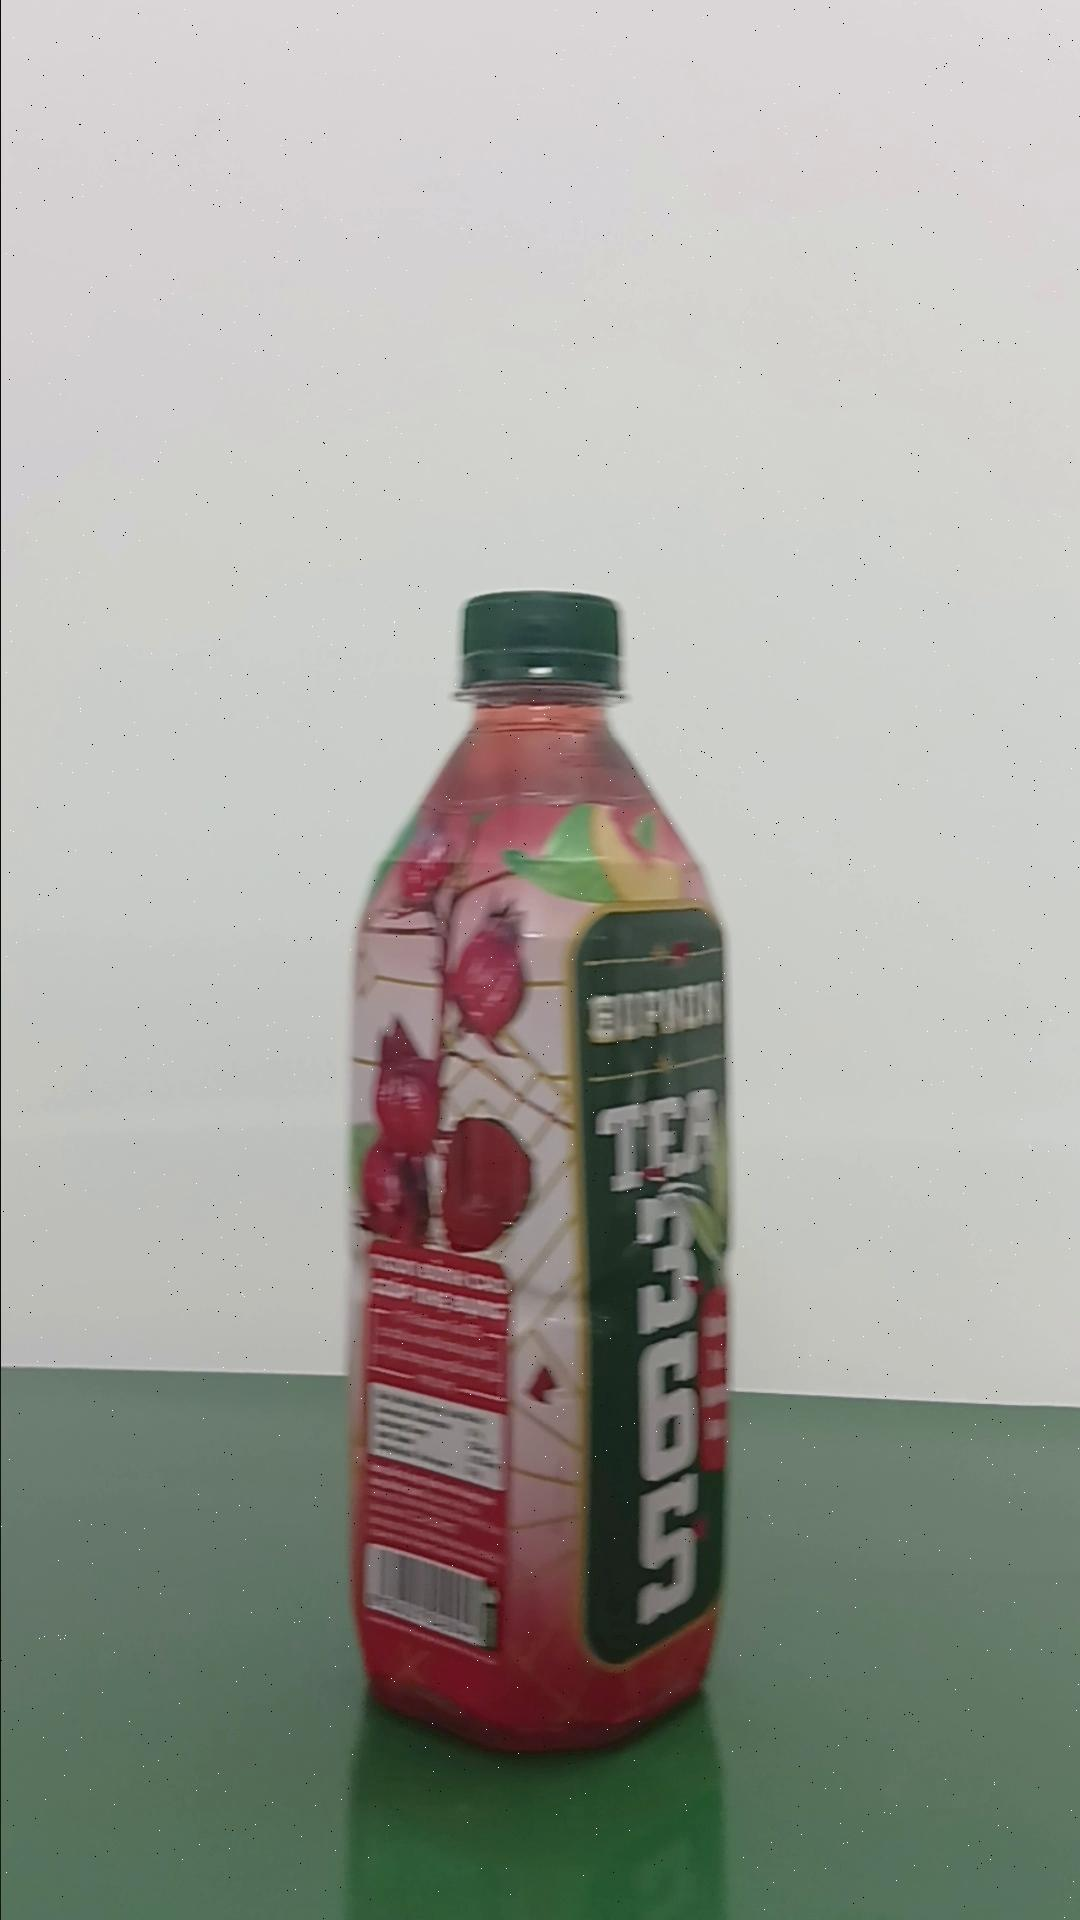loi rach va lap chai: (342, 579, 736, 1771)
